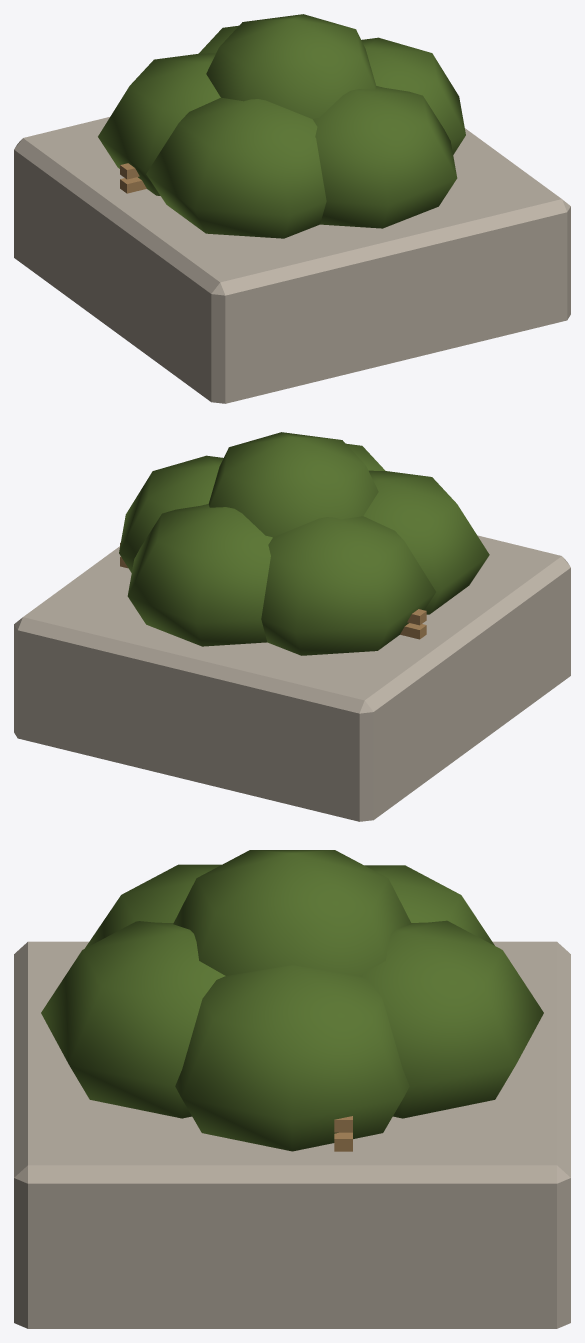
The model's file is street-furniture.glb.
3 views of the same model, one above another, from view 1: azimuth 30°, elevation 25°; view 2: azimuth 150°, elevation 25°; view 3: azimuth 270°, elevation 25° (orthographic). The views are drawn at different scales.
Visible parts, largest first — view 1: planter_v0, bench_v0; view 2: planter_v0, bench_v0; view 3: planter_v0, bench_v0.
Boxes of the visible parts, x1,y1,x2,y2 form: planter_v0: [14, 14, 570, 403]; bench_v0: [120, 163, 146, 193]; planter_v0: [14, 432, 570, 821]; bench_v0: [120, 543, 426, 639]; planter_v0: [14, 850, 570, 1328]; bench_v0: [334, 1116, 352, 1151].
Size of the model in its own units: 2.4 by 1.7 by 2.4.
